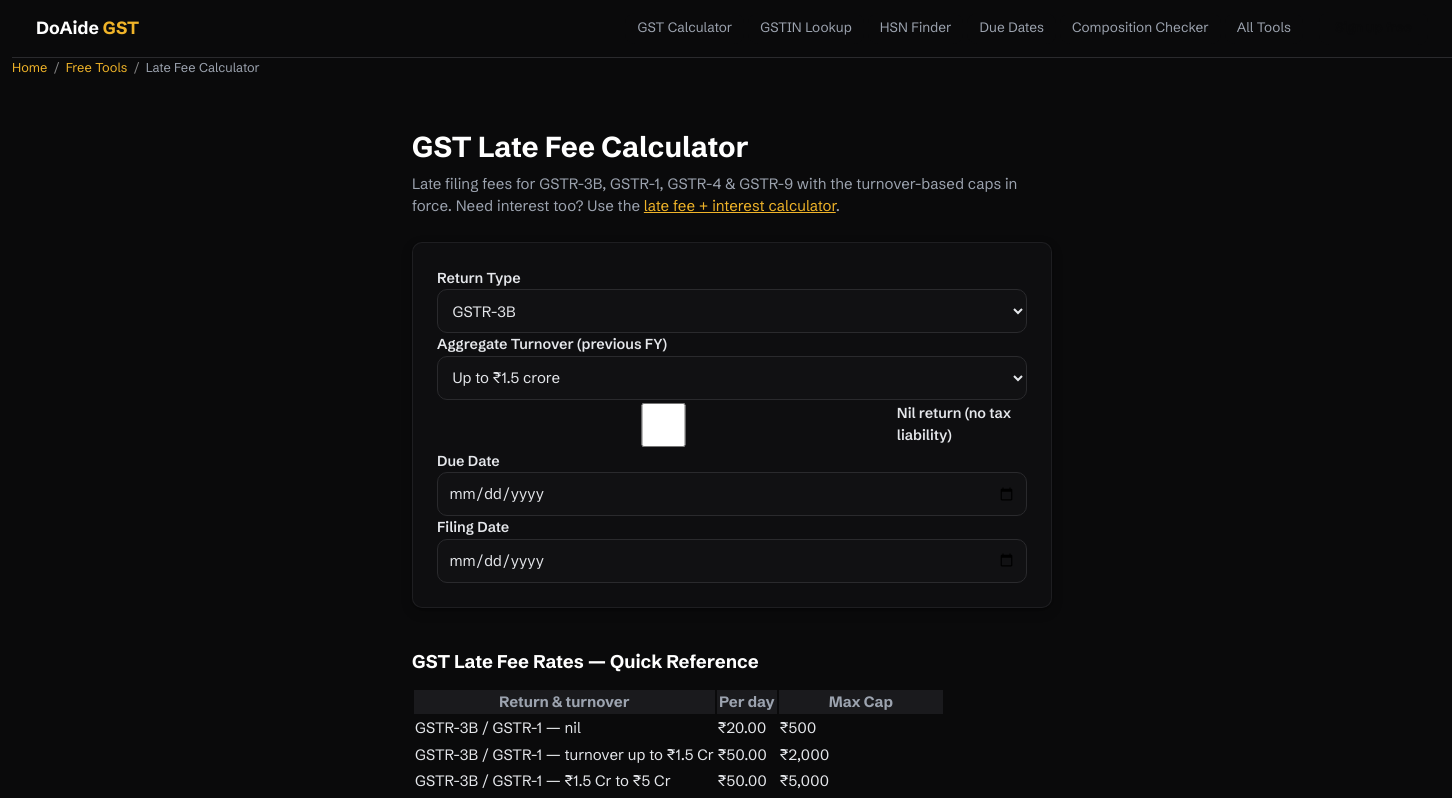
LateFeeCalculatorPage › calculates late fee for GSTR-3B
Type "2026-01-20" into the date field labelled "Due Date" at (732, 494), box left=437, top=472, right=1027, bottom=516
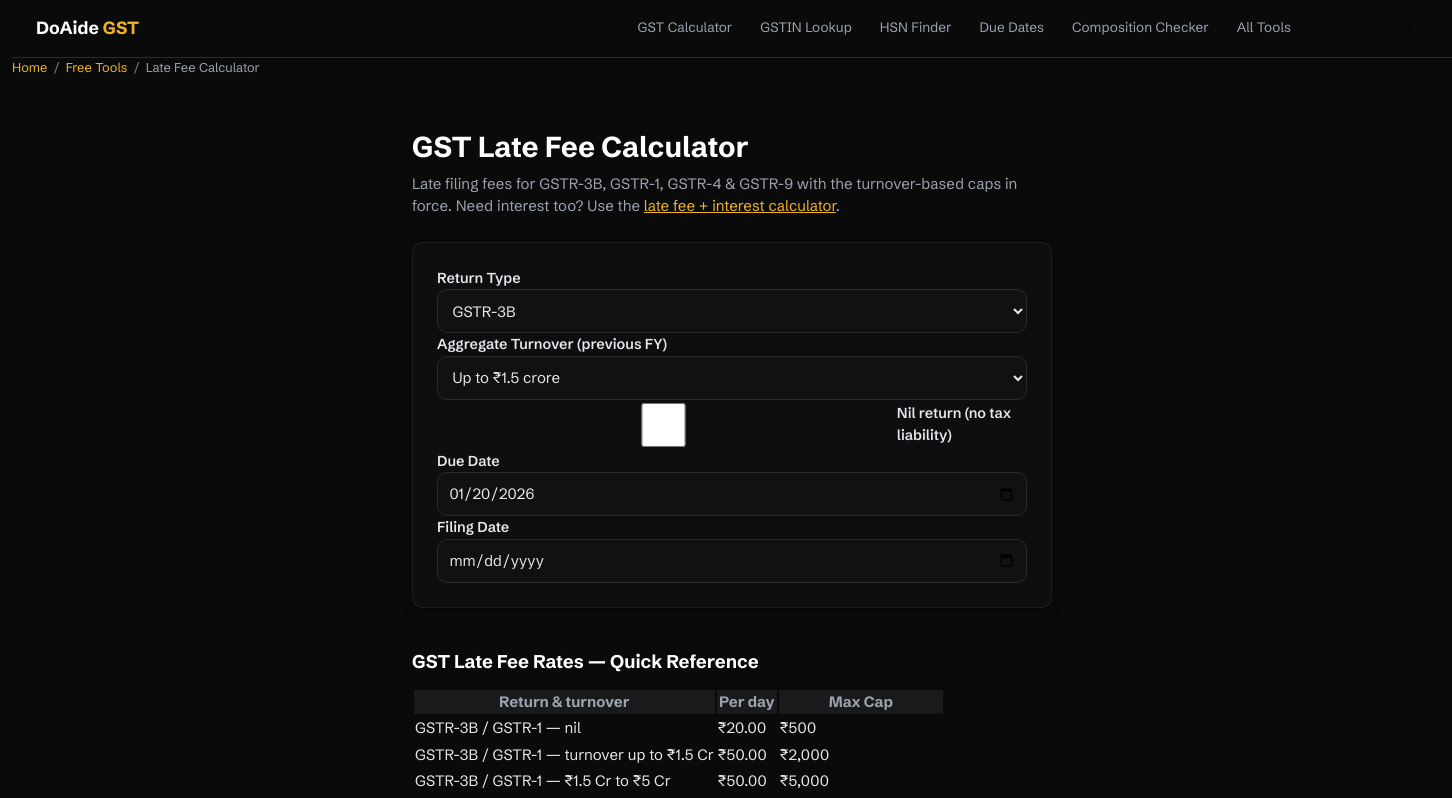
Type "2026-02-20" into the date field labelled "Filing Date" at (732, 561), box left=437, top=539, right=1027, bottom=583
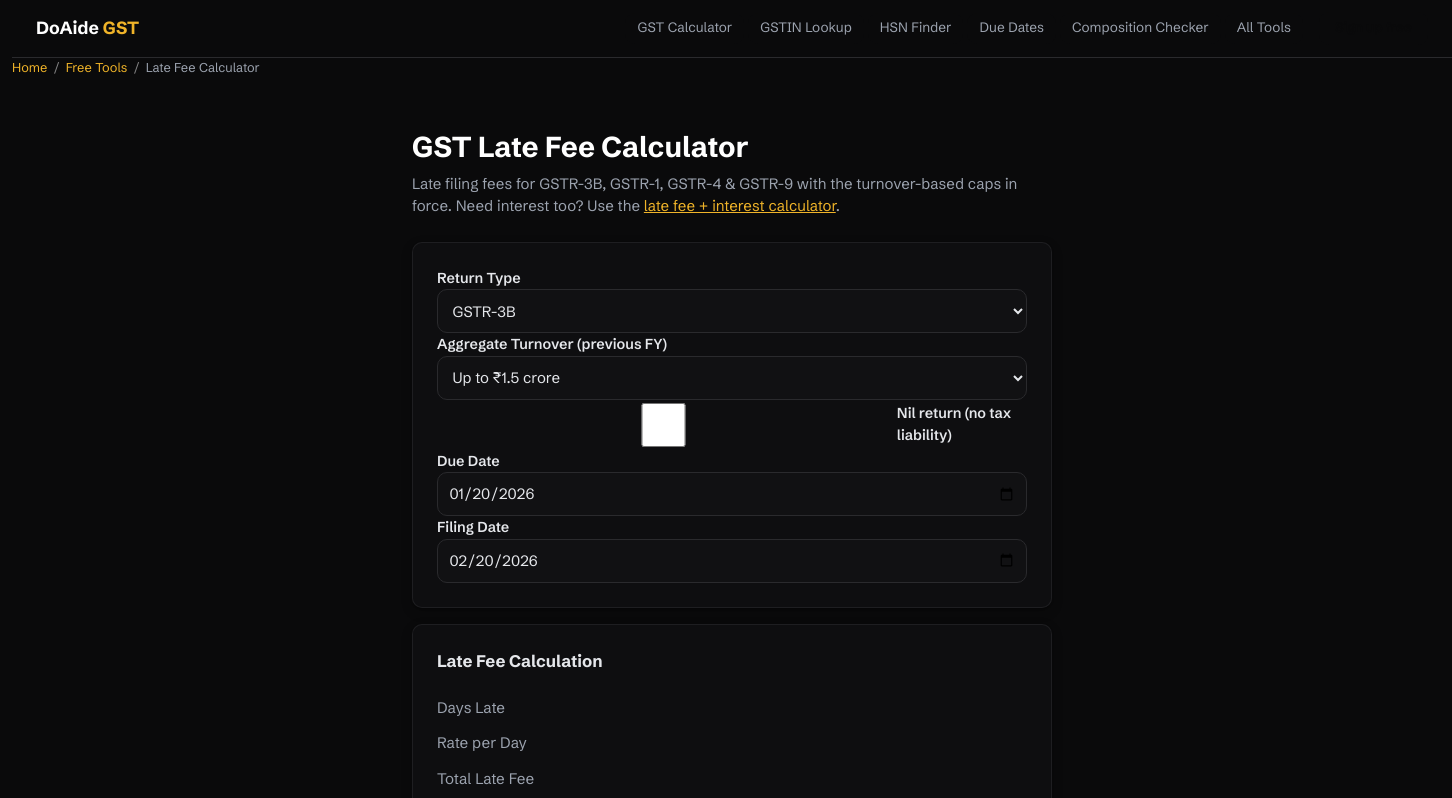
Expected: the heading "Late Fee Calculation" is shown, left=437, top=651, right=602, bottom=671
